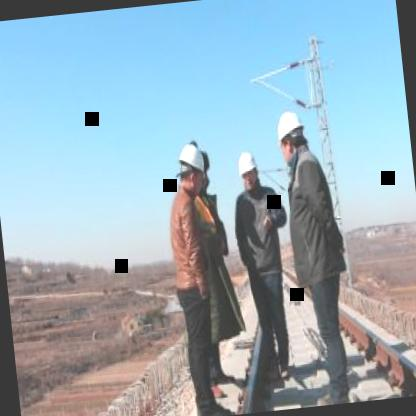helmet: (172, 137, 212, 203), (272, 106, 310, 168), (234, 146, 262, 196)
